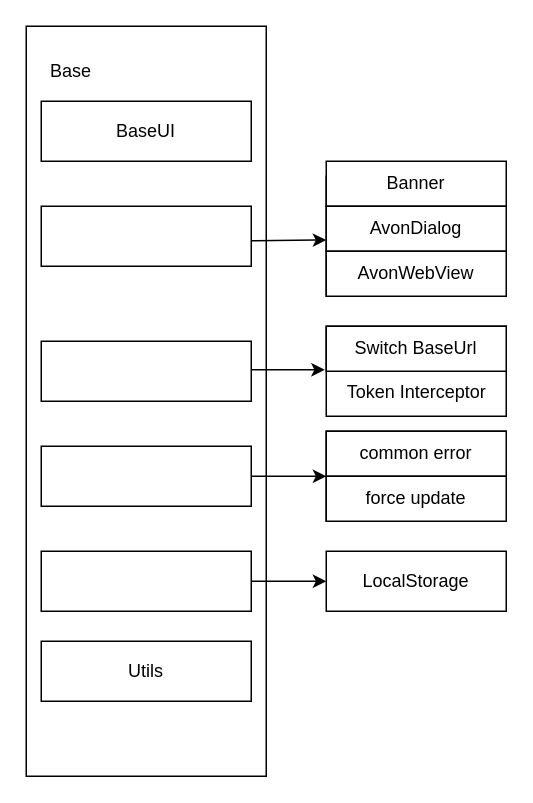
Image size: 533x803. Some labels were removed from this diagram. Here are the shapes that lost their labels. From the top down, the centre of each, then its label:
(x=145, y=235): componets
(x=145, y=370): network
(x=145, y=475): firebase
(x=145, y=580): storage
